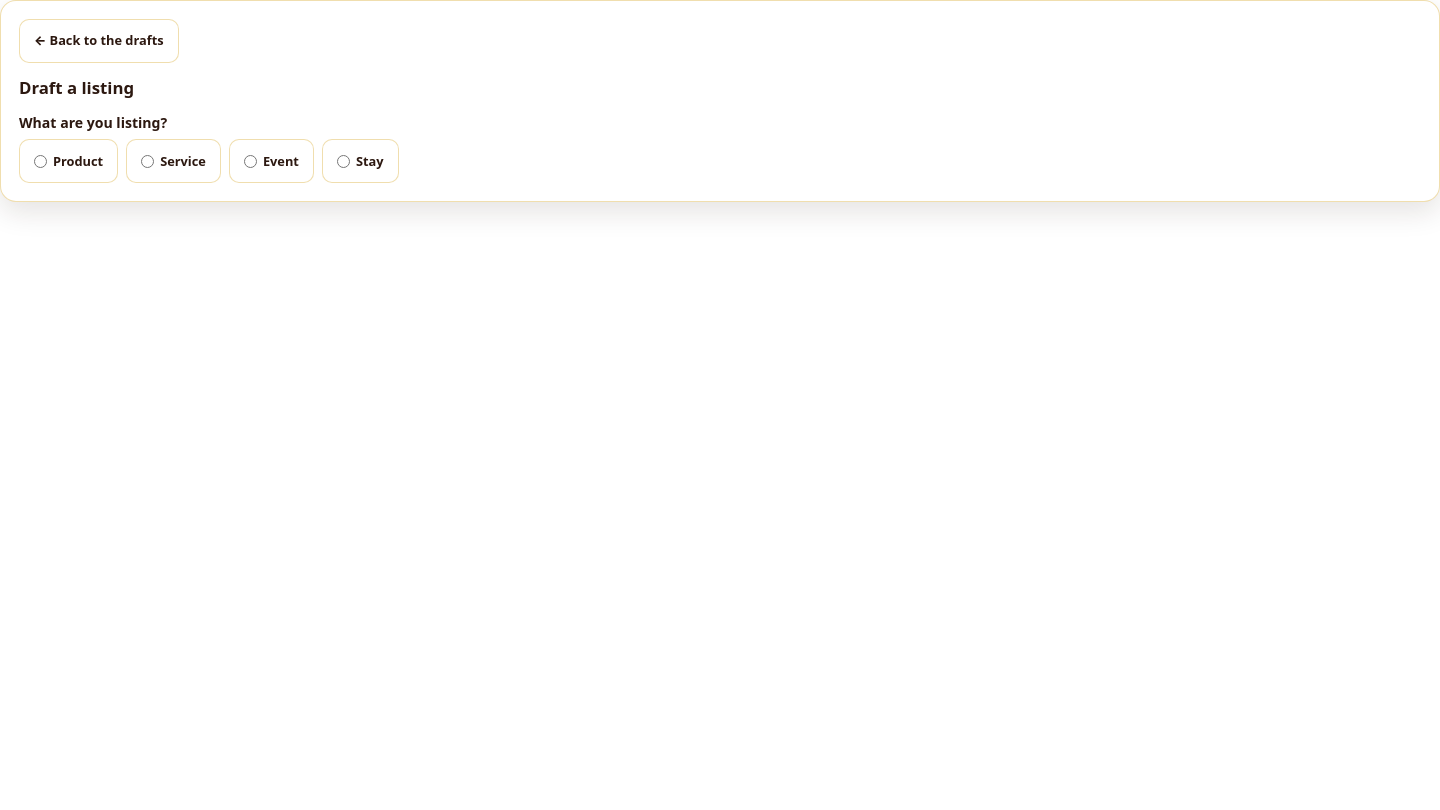
Test: ClientListingForm › shows the event date and tickets fields for an Event
This screenshot has width=1440, height=810.
Click the radio button labelled "Event" at (250, 161), box [244,155,257,168]
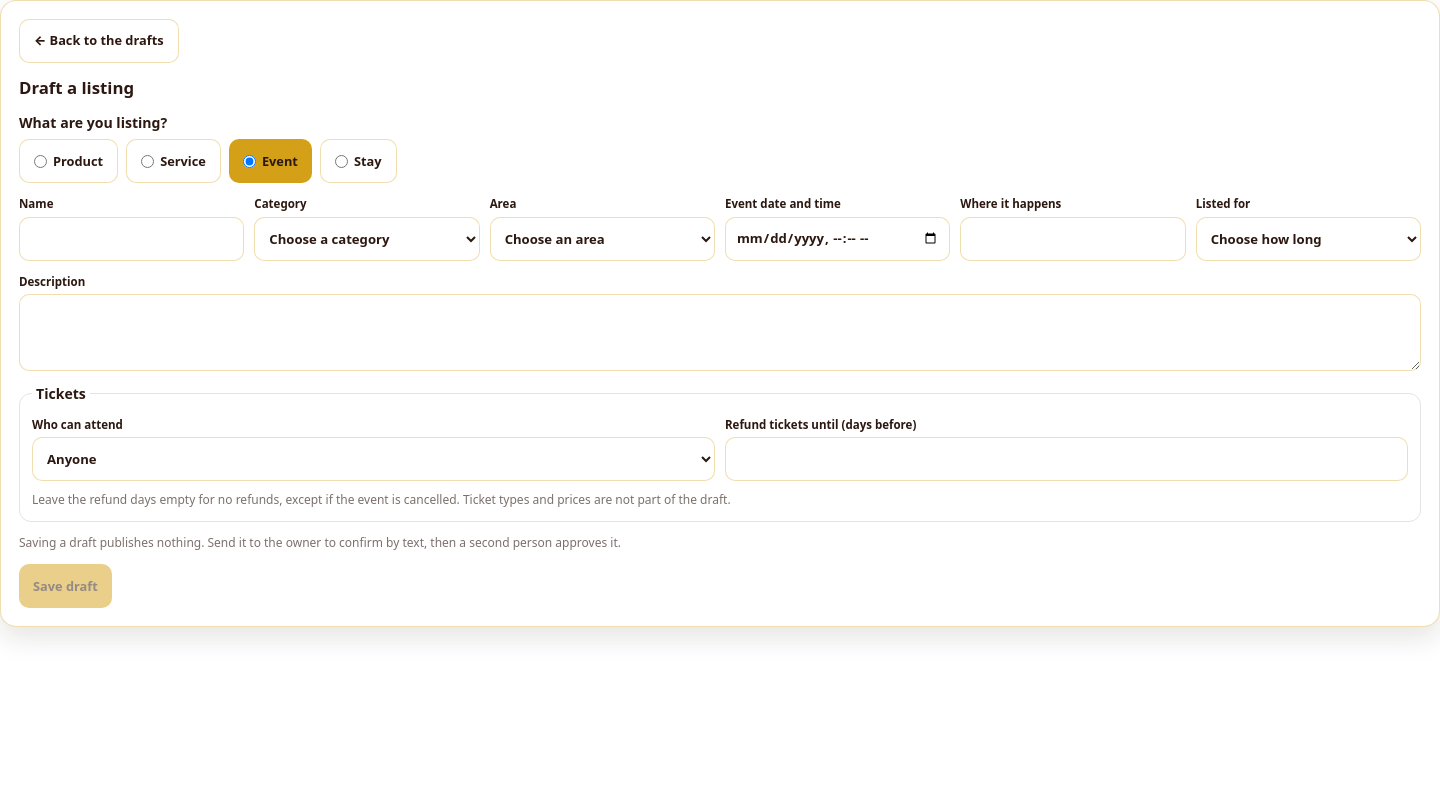
Now the field labelled "Event date and time" is shown, box [725,217,950,261]
Now the element "Tickets" is shown, box [19,383,1421,522]
